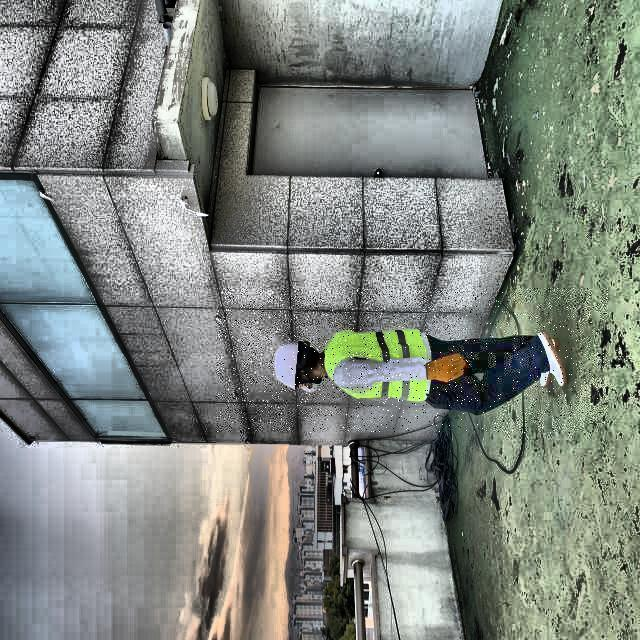safety_helmet: (274, 336, 303, 395)
safety_jacket: (320, 327, 434, 405)
